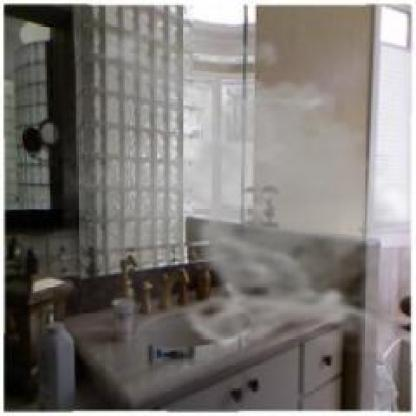Smoke: (63, 18, 414, 353)
